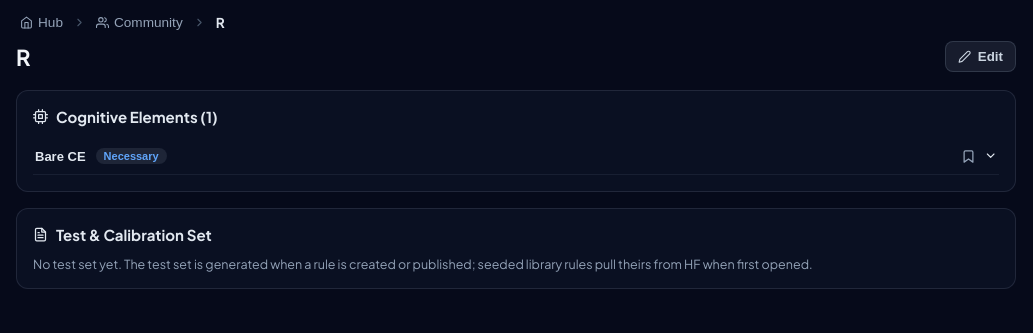
Test case: RulePage — cognitive elements › shows "No definition or examples on file." for a bare CE when expanded
Click the button "Bare CE Necessary": click(60, 156) 33,138 -> 999,174
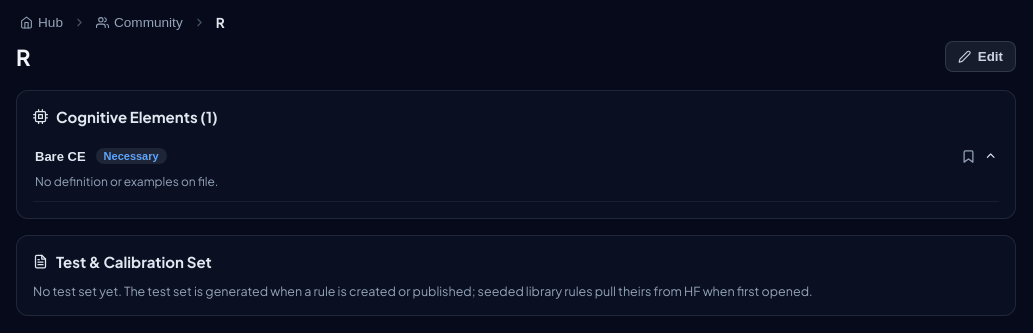
Now the text "No definition or examples on file." is shown, box 35,174 -> 218,189
